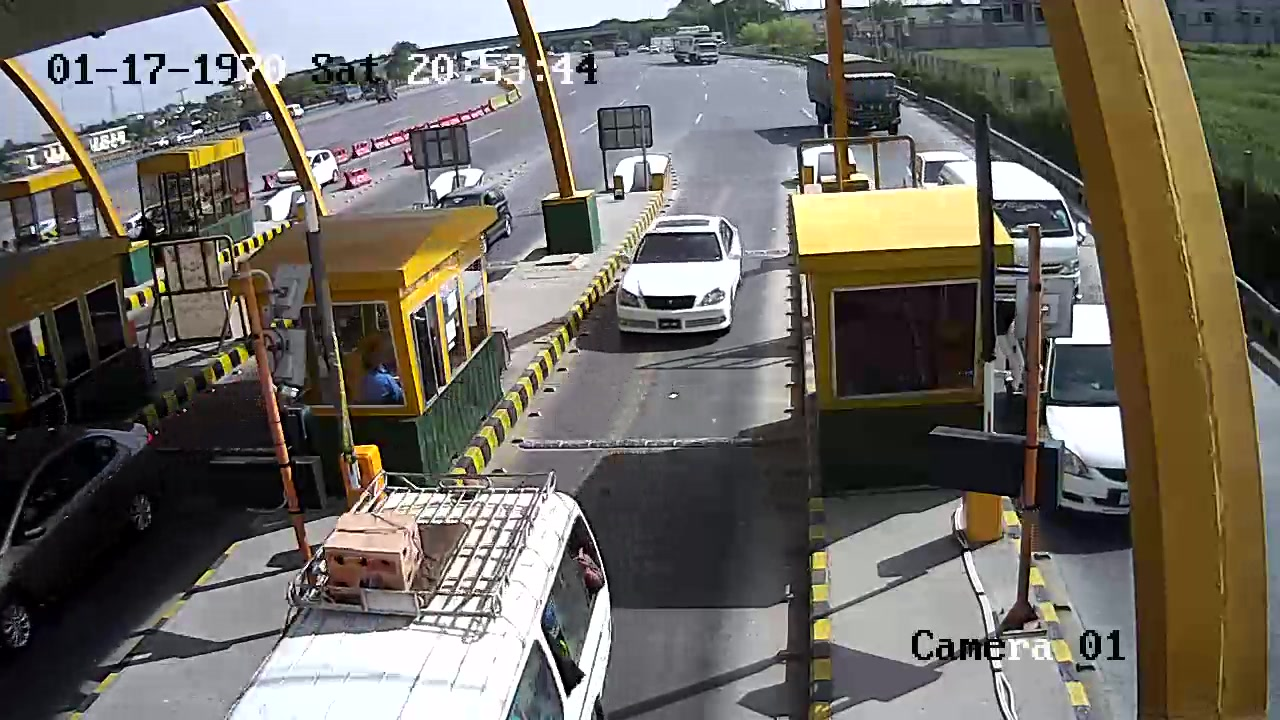F1: (607, 208, 749, 348)
